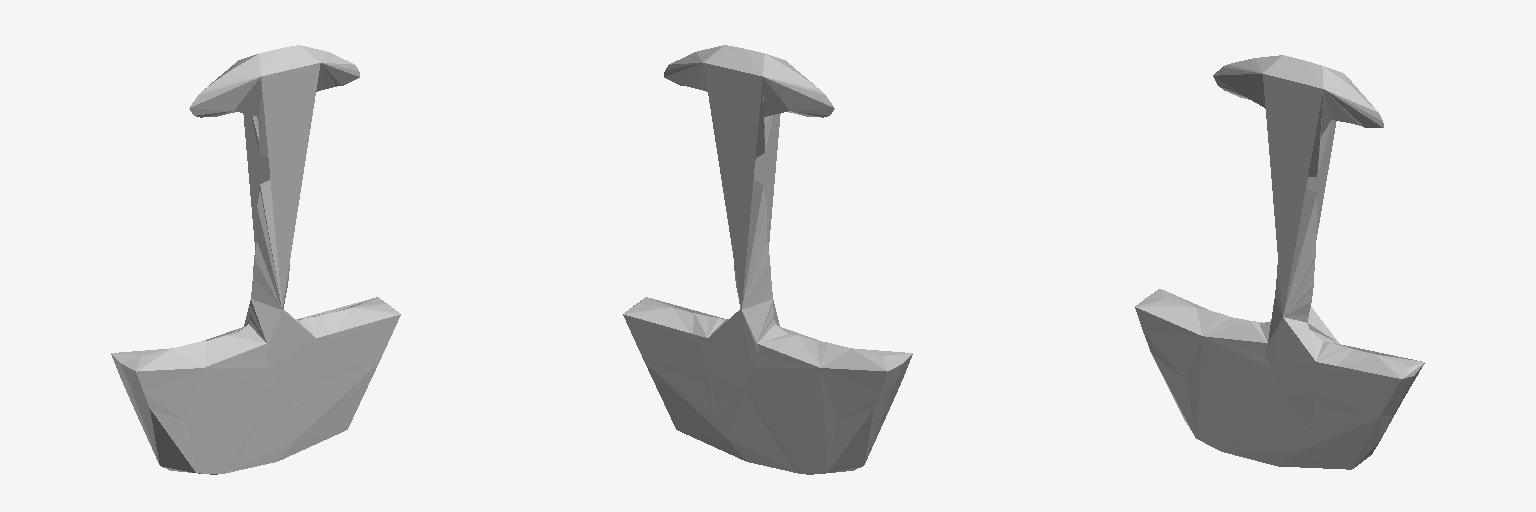
Rendered from abajur.obj.
3 renders of one model, left to right at view 1: azimuth 30°, elevation 25°; view 2: azimuth 150°, elevation 25°; view 3: azimuth 330°, elevation 25°, orthographic.
Parts seen in each view (by area): view 1: grp1; view 2: grp1; view 3: grp1.
Part boxes in pixels (x1,y1,x2,y2): grp1: (111,45,400,474); grp1: (623,45,912,474); grp1: (1135,55,1424,469).
Size of the model in its own units: 260 by 373 by 42.18.